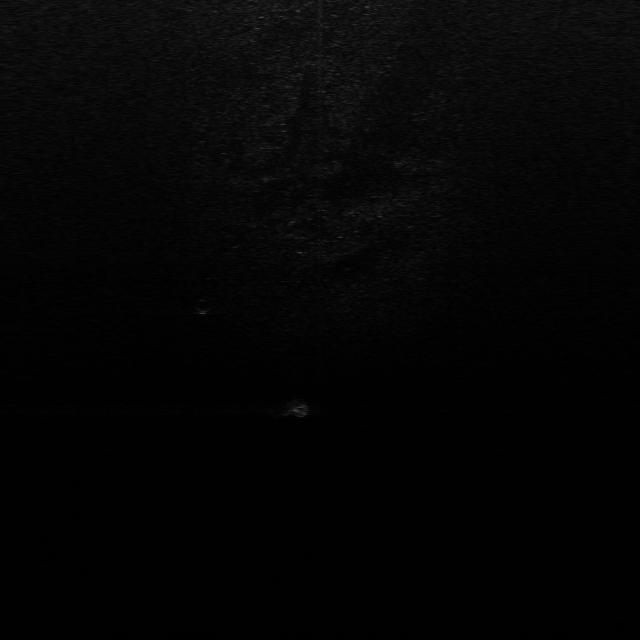ball: (286, 397, 316, 417)
circle cage: (189, 297, 217, 315)
